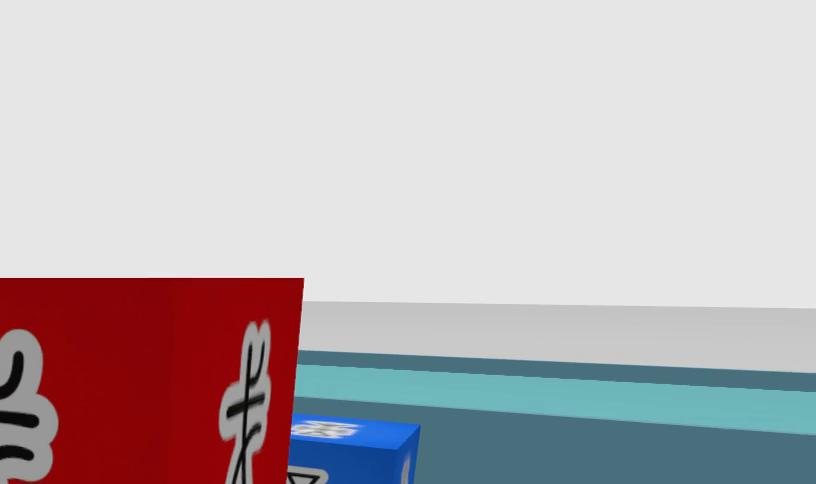KFS_FAKE: (0, 277, 302, 484), (218, 321, 272, 484), (0, 330, 57, 484)
KFS_REAL: (287, 412, 418, 484), (287, 466, 327, 484)
